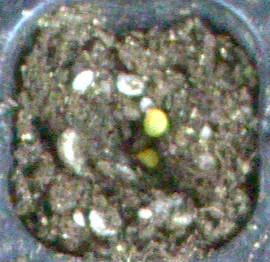pepper seed: (55, 62, 216, 231), (58, 38, 227, 177)
